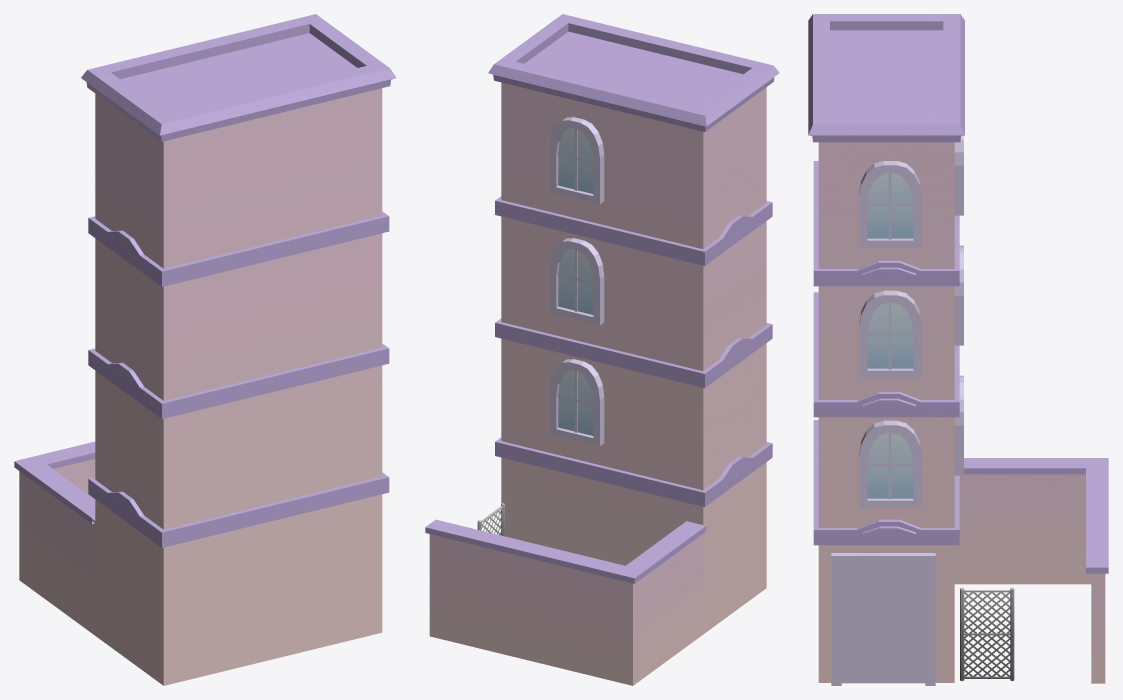
File: Gebäude05.glb
The picture shows the model from 3 angles, left to right: view 1: azimuth 30°, elevation 25°; view 2: azimuth 150°, elevation 25°; view 3: azimuth 270°, elevation 25°; orthographic projection. The views are drawn at different scales.
Visible parts, largest first — view 1: Cube.008; view 2: Cube.008; view 3: Cube.008.
Boxes of the visible parts, x1,y1,x2,y2 form: Cube.008: (14,14,396,685); Cube.008: (425,14,779,685); Cube.008: (808,14,1108,685).
Size of the model in its own units: 5.4 by 12.31 by 5.98.
Materials: 1 (1 with a texture image).
